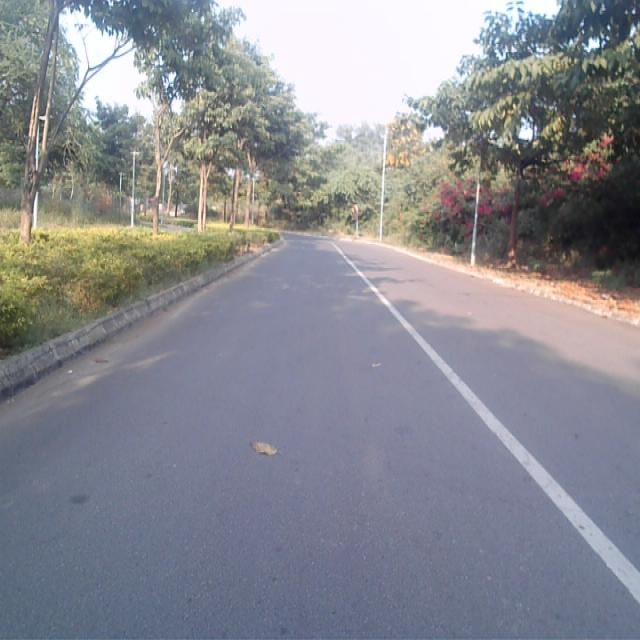lane: (0, 241, 640, 640)
